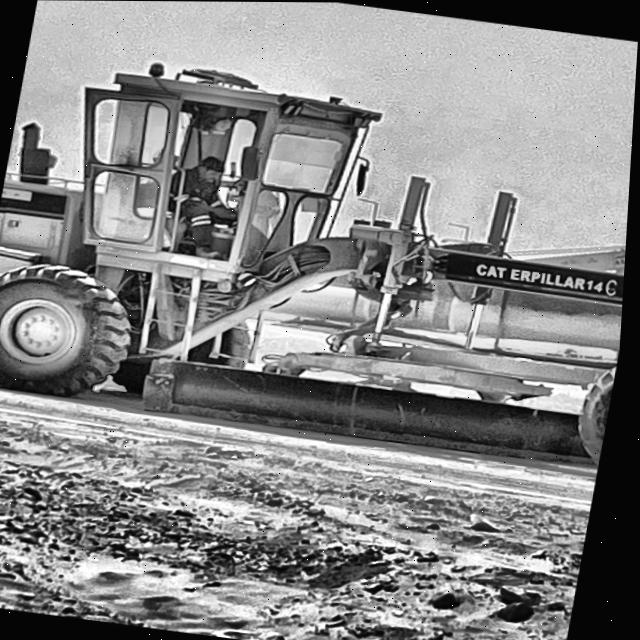buldozerpayloadergrader: (0, 35, 638, 473)
